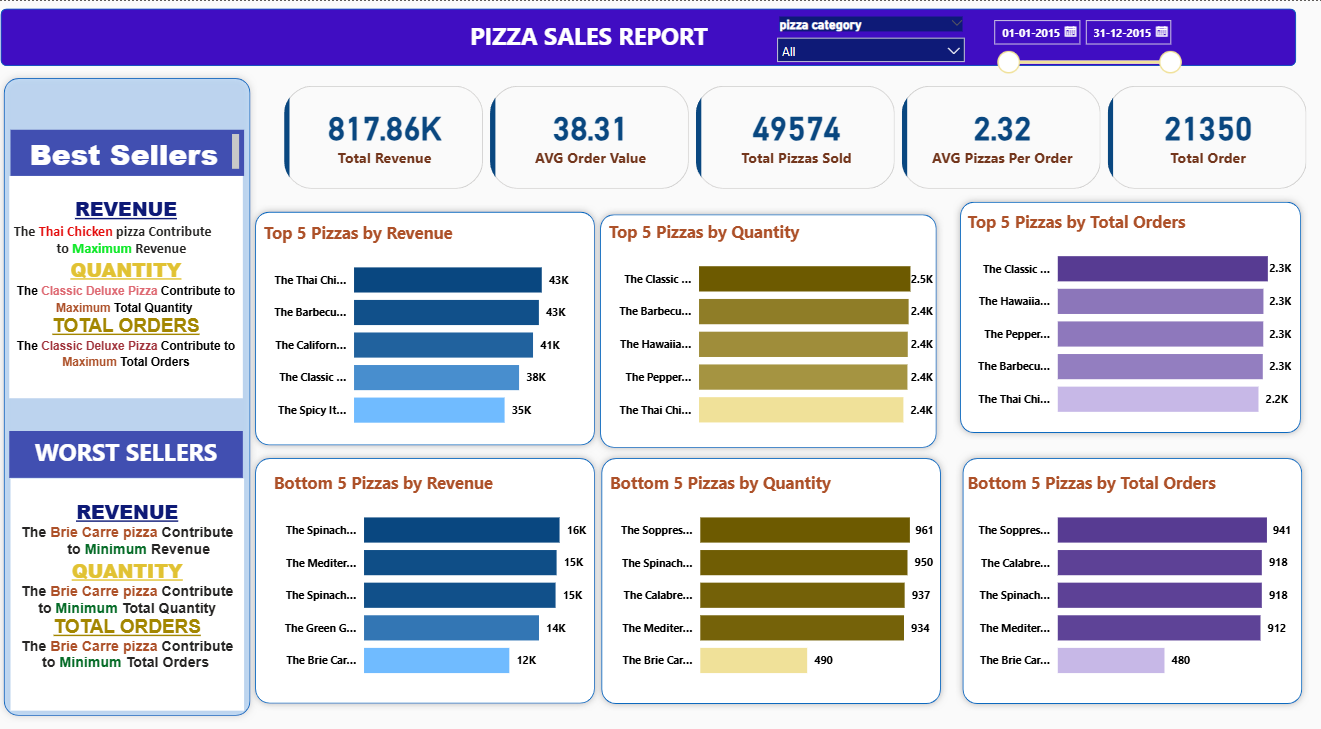

The dashboard page shown, as its layout file describes it:
{"tool":"powerbi","page":{"name":"Best and worst seller","canvas":[1500,820],"ordinal":1},"visuals":[{"type":"cardVisual","fields":{"Data":["pizza_sales.Total Revenue","pizza_sales.AVG Order Value","pizza_sales.Total Pizzas Sold","pizza_sales.AVG Pizzas Per Order","pizza_sales.Total Order"]},"box":[311.1,79,1188.9,150.6],"z":0},{"type":"shape","box":[8.8,8.8,1460,65],"z":1000},{"type":"textbox","box":[532.5,15,290,58.8],"z":2000},{"type":"shape","box":[287.7,229.6,398.8,279],"z":3000},{"type":"shape","box":[3.7,79,293.8,734.6],"z":13000},{"type":"textbox","box":[19.8,145.7,263,51.9],"z":14000},{"type":"textbox","box":[18.5,197.5,263,250.6],"z":15000},{"type":"textbox","box":[19.8,538.3,263,261.7],"z":16000},{"type":"textbox","box":[18.5,485.2,263,53.1],"z":17000},{"type":"slicer","fields":{"Values":["pizza_sales.pizza_category"]},"box":[873.9,12.5,231.8,64.8],"z":18000},{"type":"slicer","fields":{"Values":["pizza_sales.order_date"]},"box":[1115.9,11.4,231.8,73.9],"z":19000},{"type":"shape","box":[676.5,232.1,395.1,279],"z":19001},{"type":"shape","box":[1081.9,218.1,400,276.4],"z":19002},{"type":"shape","box":[287.7,507.4,398.8,292.6],"z":19003},{"type":"shape","box":[677.8,506.9,398.6,293.1],"z":19004},{"type":"shape","box":[1084.7,506.9,398.6,293.1],"z":19005},{"type":"barChart","title":"Top 5 Pizzas by Revenue","fields":{"Category":["pizza_sales.pizza_name"],"Y":["pizza_sales.Total Revenue"]},"box":[300,248.1,375.3,248.1],"z":19006},{"type":"barChart","title":"Bottom 5 Pizzas by Revenue","fields":{"Category":["pizza_sales.pizza_name"],"Y":["pizza_sales.Total Revenue"]},"box":[311.1,529.2,375,248.6],"z":19007},{"type":"barChart","title":"Top 5 Pizzas by Quantity","fields":{"Category":["pizza_sales.pizza_name"],"Y":["pizza_sales.Total Pizzas Sold"]},"box":[688.9,246.9,375.3,249.4],"z":19008},{"type":"barChart","title":"Bottom 5 Pizzas by Quantity","fields":{"Category":["pizza_sales.pizza_name"],"Y":["pizza_sales.Total Pizzas Sold"]},"box":[690.3,529.2,375,248.6],"z":19009},{"type":"barChart","title":"Top 5 Pizzas by Total Orders","fields":{"Category":["pizza_sales.pizza_name"],"Y":["pizza_sales.Total Order"]},"box":[1093.1,234.7,375,248.6],"z":19010},{"type":"barChart","title":"Bottom 5 Pizzas by Total Orders","fields":{"Category":["pizza_sales.pizza_name"],"Y":["pizza_sales.Total Order"]},"box":[1093.1,529.2,375,248.6],"z":19011}]}

Visuals, with their boxes in screenshot pixels (x1, y1, x2, y2), scaled from the page's 1500x820 canvas onto the 1321x729 screenshot:
cardVisual - pizza_sales.Total Revenue x pizza_sales.AVG Order Value: Rect(274, 70, 1320, 204)
shape: Rect(8, 8, 1294, 66)
textbox: Rect(469, 13, 724, 66)
shape: Rect(253, 204, 605, 452)
shape: Rect(3, 70, 262, 723)
textbox: Rect(17, 130, 249, 176)
textbox: Rect(16, 176, 248, 398)
textbox: Rect(17, 479, 249, 711)
textbox: Rect(16, 431, 248, 479)
slicer - pizza_sales.pizza_category: Rect(770, 11, 974, 69)
slicer - pizza_sales.order_date: Rect(983, 10, 1187, 76)
shape: Rect(596, 206, 944, 454)
shape: Rect(953, 194, 1305, 440)
shape: Rect(253, 451, 605, 711)
shape: Rect(597, 451, 948, 711)
shape: Rect(955, 451, 1306, 711)
"Top 5 Pizzas by Revenue" barChart: Rect(264, 221, 595, 441)
"Bottom 5 Pizzas by Revenue" barChart: Rect(274, 470, 604, 691)
"Top 5 Pizzas by Quantity" barChart: Rect(607, 220, 937, 441)
"Bottom 5 Pizzas by Quantity" barChart: Rect(608, 470, 938, 691)
"Top 5 Pizzas by Total Orders" barChart: Rect(963, 209, 1293, 430)
"Bottom 5 Pizzas by Total Orders" barChart: Rect(963, 470, 1293, 691)
